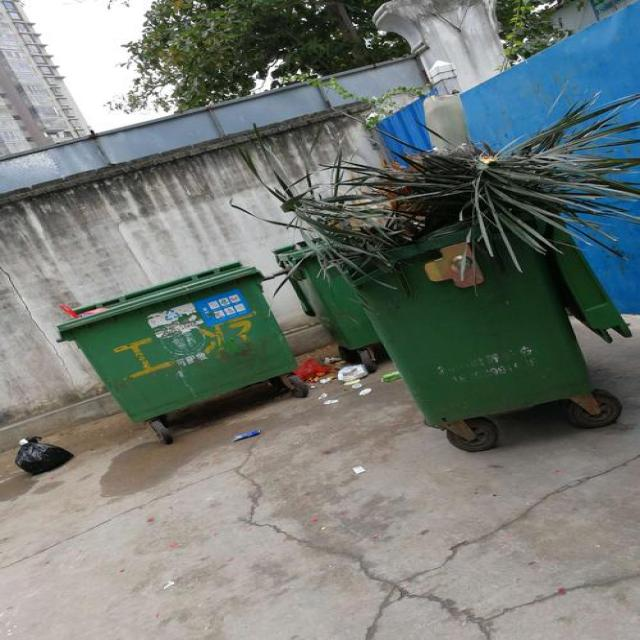garbage: (292, 353, 403, 404), (12, 437, 74, 476)
garbage_bin: (54, 261, 296, 422)
overflow: (232, 90, 638, 422)
